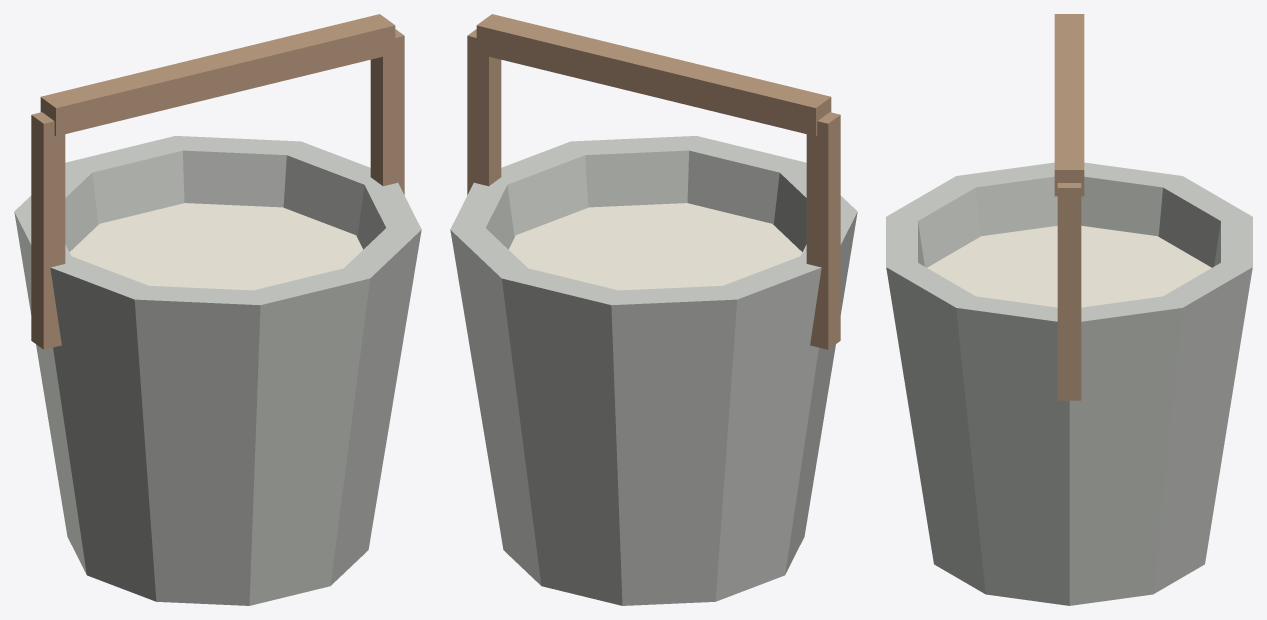
Rendered from crafted-bucket-2.glb.
The picture shows the model from 3 angles, left to right: view 1: azimuth 30°, elevation 25°; view 2: azimuth 150°, elevation 25°; view 3: azimuth 270°, elevation 25°; orthographic projection. The views are drawn at different scales.
Visible parts, largest first — view 1: bucket, milk, handle, handle-side, handle-side-1; view 2: bucket, milk, handle, handle-side, handle-side-1; view 3: bucket, milk, handle-side-1, handle.
Boxes of the visible parts, x1,y1,x2,y2 form: bucket: (14, 136, 421, 605); milk: (69, 203, 363, 290); handle: (40, 14, 395, 136); handle-side: (31, 112, 65, 349); handle-side-1: (370, 29, 404, 194); bucket: (450, 136, 857, 605); milk: (508, 203, 802, 290); handle: (476, 14, 831, 136); handle-side: (806, 112, 840, 349); handle-side-1: (467, 29, 501, 194); bucket: (886, 162, 1252, 605); milk: (927, 225, 1211, 307); handle-side-1: (1057, 183, 1081, 400); handle: (1054, 14, 1084, 196).
Bounding box in the file's own units: 0.468 × 0.5975 × 0.4375.
